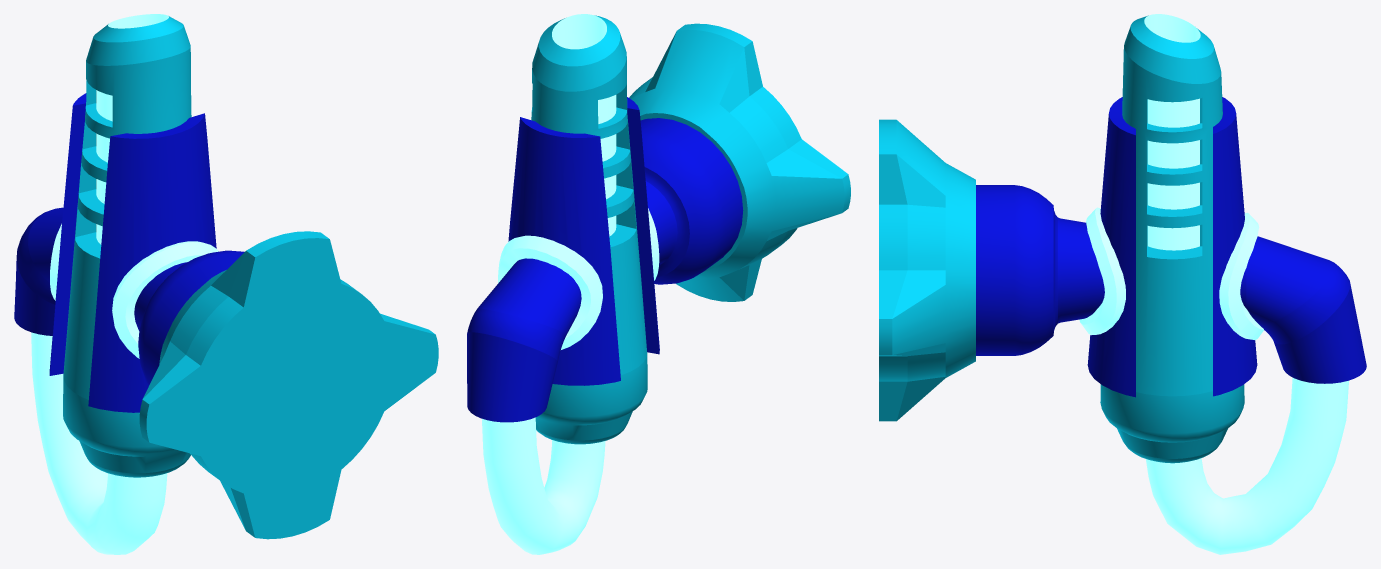
The model's file is CryoCanon3.fbx.
3 views of the same model, side by side, from view 1: azimuth 30°, elevation 25°; view 2: azimuth 150°, elevation 25°; view 3: azimuth 270°, elevation 25° (orthographic). The views are drawn at different scales.
Visible parts, largest first — view 1: JA, Cylinder, Cylinder.002, Plane.001, Cylinder.001, Cylinder.002_Curve.001, Cylinder.003; view 2: Cylinder.001, JA, Cylinder, Cylinder.002, Plane.001, Cylinder.002_Curve, Cylinder.003; view 3: Cylinder, Cylinder.001, JA, Plane.001, Cylinder.002, Cylinder.003, Cylinder.002_Curve.001, Cylinder.002_Curve.
Part boxes in pixels (left/top/right/bottom): JA: left=139, top=231, right=438, bottom=539; Cylinder: left=63, top=14, right=191, bottom=477; Cylinder.002: left=49, top=93, right=216, bottom=412; Plane.001: left=31, top=332, right=167, bottom=554; Cylinder.001: left=14, top=207, right=244, bottom=385; Cylinder.002_Curve.001: left=112, top=241, right=218, bottom=358; Cylinder.003: left=96, top=90, right=112, bottom=244; Cylinder.001: left=467, top=118, right=743, bottom=422; JA: left=629, top=23, right=850, bottom=301; Cylinder: left=531, top=14, right=647, bottom=444; Cylinder.002: left=508, top=97, right=659, bottom=385; Plane.001: left=482, top=417, right=605, bottom=554; Cylinder.002_Curve: left=498, top=235, right=602, bottom=349; Cylinder.003: left=598, top=95, right=616, bottom=236; Cylinder: left=1100, top=14, right=1244, bottom=463; Cylinder.001: left=976, top=185, right=1366, bottom=383; JA: left=879, top=119, right=975, bottom=421; Plane.001: left=1146, top=378, right=1348, bottom=554; Cylinder.002: left=1087, top=97, right=1257, bottom=397; Cylinder.003: left=1147, top=98, right=1199, bottom=250; Cylinder.002_Curve.001: left=1079, top=207, right=1125, bottom=335; Cylinder.002_Curve: left=1219, top=212, right=1263, bottom=339.
Size of the model in its own units: 1669 by 3048 by 2536.
